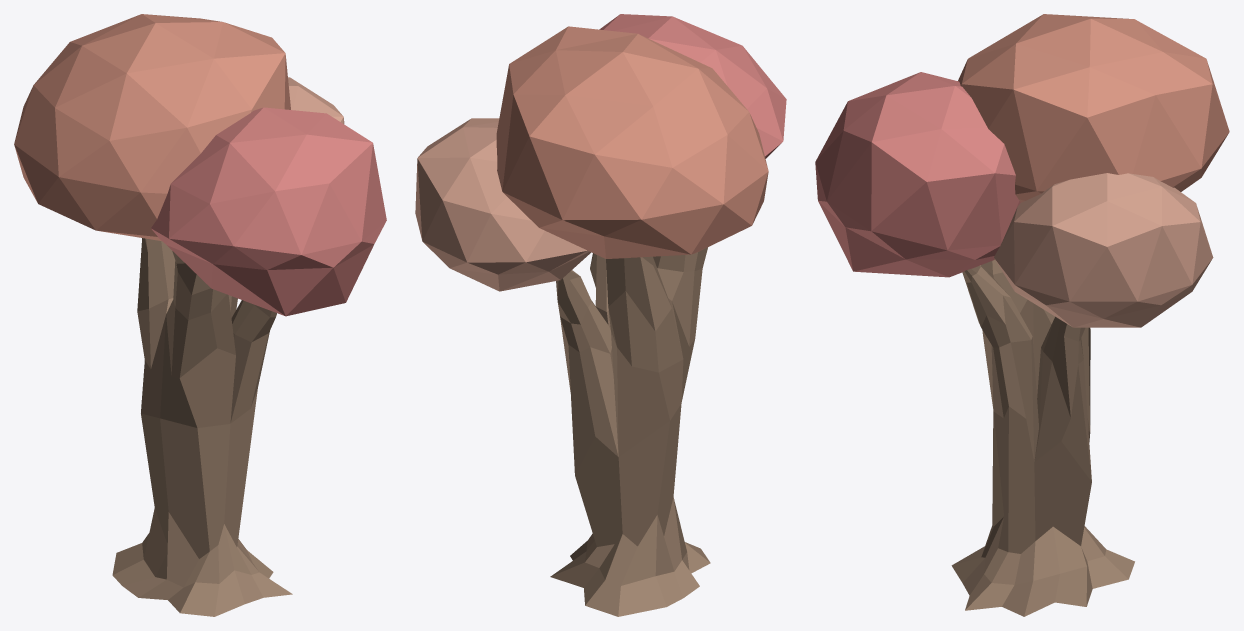
Rendered from Tree4.fbx.
3 renders of one model, left to right at view 1: azimuth 30°, elevation 25°; view 2: azimuth 150°, elevation 25°; view 3: azimuth 270°, elevation 25°, orthographic.
Visible parts, largest first — view 1: Icosphere, Cube, Icosphere.001, Icosphere.002; view 2: Icosphere, Cube, Icosphere.002, Icosphere.001; view 3: Icosphere, Cube, Icosphere.001, Icosphere.002.
Boxes of the visible parts, <box> form: Icosphere: <box>14,14,290,240</box>; Cube: <box>112,238,292,616</box>; Icosphere.001: <box>151,107,386,316</box>; Icosphere.002: <box>288,77,344,123</box>; Icosphere: <box>496,26,768,258</box>; Cube: <box>550,247,710,616</box>; Icosphere.002: <box>415,118,590,291</box>; Icosphere.001: <box>599,14,786,158</box>; Icosphere: <box>958,14,1229,202</box>; Cube: <box>951,260,1134,616</box>; Icosphere.001: <box>815,72,1020,277</box>; Icosphere.002: <box>994,173,1213,327</box>.
Size of the model in its own units: 468 by 790 by 534.
